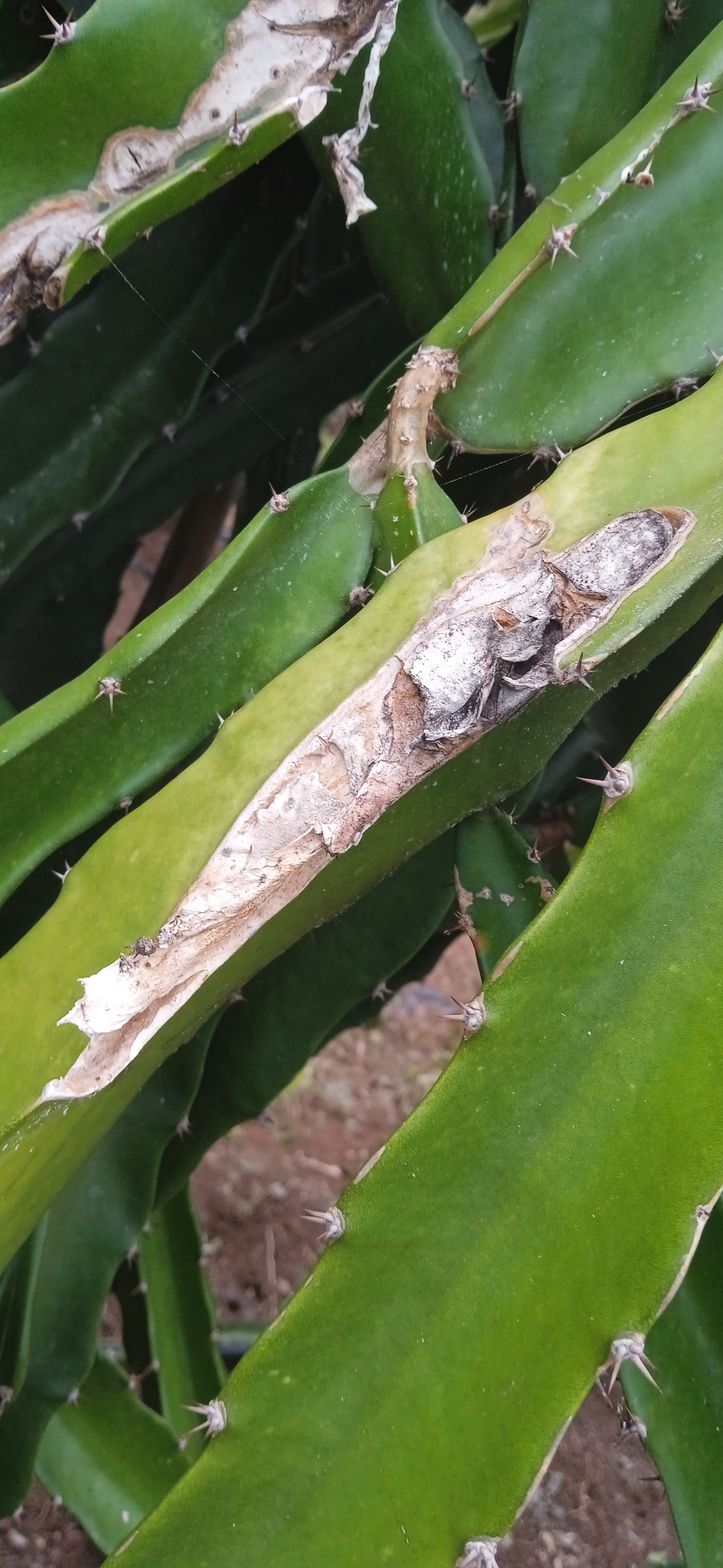stemcanker: (17, 490, 703, 1133), (1, 1, 412, 353)
